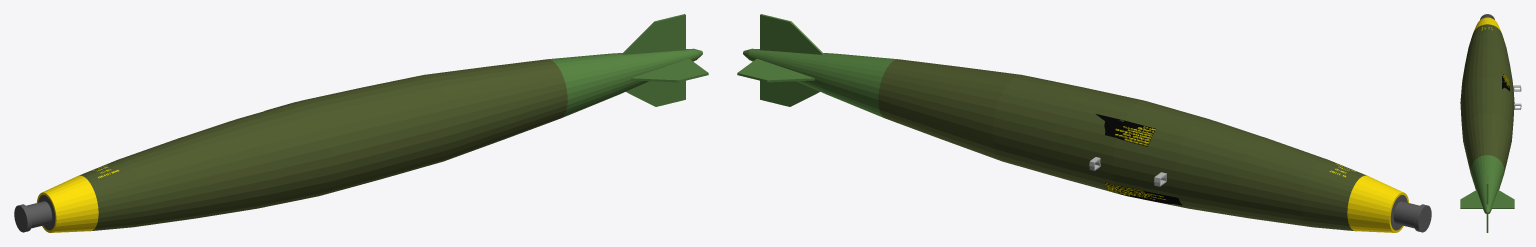
3 views of the same model, side by side, from view 1: azimuth 30°, elevation 25°; view 2: azimuth 150°, elevation 25°; view 3: azimuth 270°, elevation 25° (orthographic). The views are drawn at different scales.
Visible parts, largest first — view 1: mk-83 Body, Fin Left, Fin Right, Fin Down; view 2: mk-83 Body, Fin Left, Fin Right, Fin Up, MK83 Detail Label L, MK83 Detail Label; view 3: mk-83 Body, Fin Up, Fin Down, MK83 Detail Label L, Fin Left, Fin Right.
Boxes of the visible parts, x1,y1,x2,y2 form: mk-83 Body: [14, 48, 702, 232]; Fin Left: [622, 14, 685, 54]; Fin Right: [626, 80, 685, 106]; Fin Down: [631, 58, 708, 82]; mk-83 Body: [743, 48, 1431, 232]; Fin Left: [760, 14, 823, 54]; Fin Right: [760, 80, 819, 106]; Fin Up: [737, 58, 814, 82]; MK83 Detail Label L: [1096, 114, 1156, 146]; MK83 Detail Label: [1104, 182, 1186, 206]; mk-83 Body: [1460, 14, 1521, 214]; Fin Up: [1491, 190, 1514, 208]; Fin Down: [1460, 190, 1483, 208]; MK83 Detail Label L: [1501, 72, 1509, 91]; Fin Left: [1486, 175, 1488, 204]; Fin Right: [1486, 214, 1488, 232].
Bounding box in the file's own units: 336 × 42 × 45.18.
Materials: 8 (3 with a texture image).
